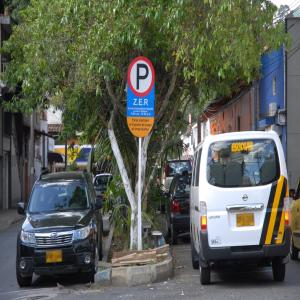Vehicle-registration-plate: (47, 250, 63, 266), (238, 214, 255, 227)
